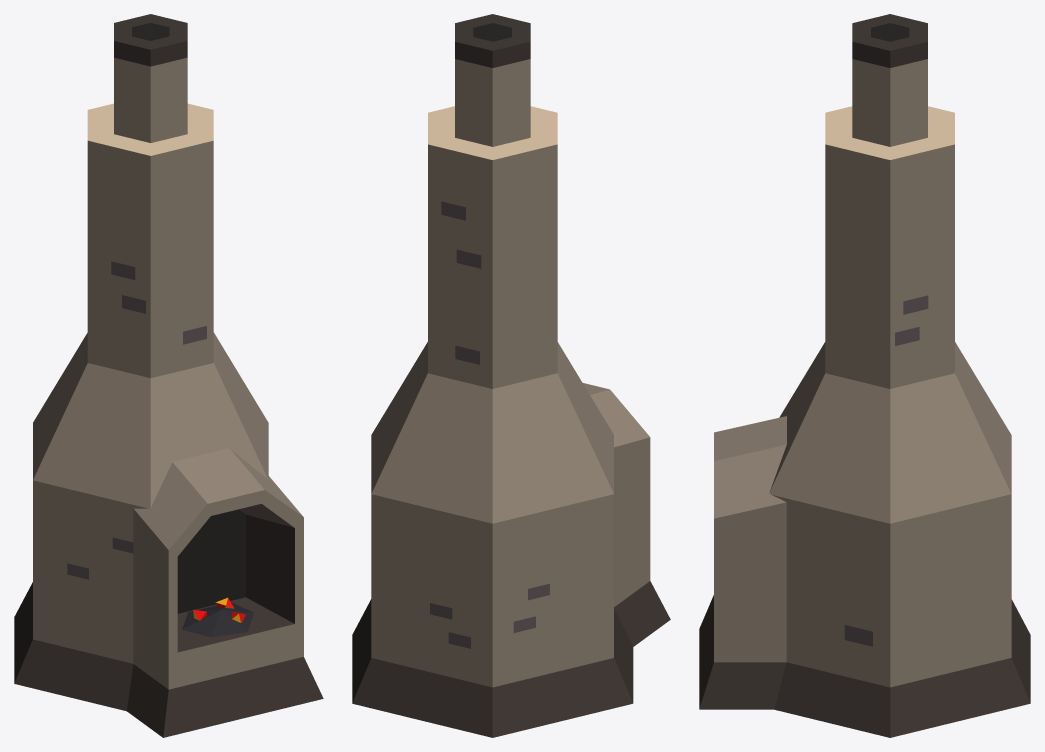
Rendered from blacksmith.glb.
The picture shows the model from 3 angles, left to right: view 1: azimuth 30°, elevation 25°; view 2: azimuth 150°, elevation 25°; view 3: azimuth 270°, elevation 25°; orthographic projection. The views are drawn at different scales.
Parts seen in each view (by area): view 1: TB_Bd_Blacksmith; view 2: TB_Bd_Blacksmith; view 3: TB_Bd_Blacksmith.
Boxes of the visible parts, x1,y1,x2,y2 form: TB_Bd_Blacksmith: (14,14,323,737); TB_Bd_Blacksmith: (352,14,670,737); TB_Bd_Blacksmith: (699,14,1030,737).
Bounding box in the file's own units: 2.96 × 6.4 × 3.02.
Materials: 1 (1 with a texture image).
